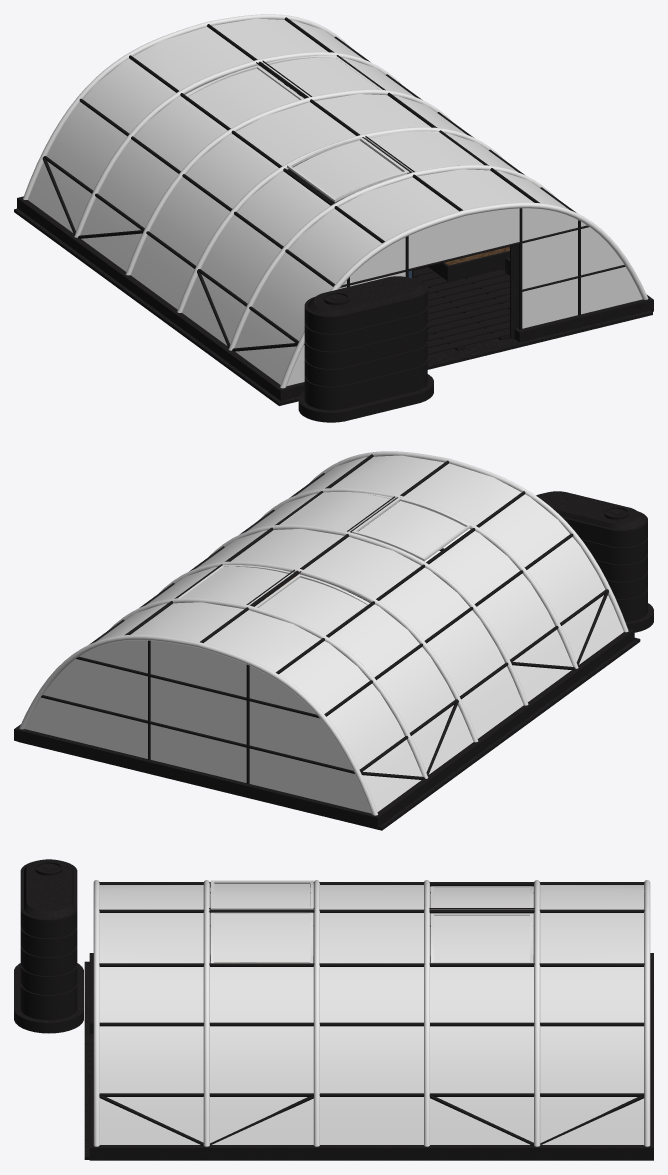
Rendered from serre_texturee.dae.
3 views of the same model, one above another, from view 1: azimuth 30°, elevation 25°; view 2: azimuth 150°, elevation 25°; view 3: azimuth 270°, elevation 25° (orthographic). The views are drawn at different scales.
Visible parts, largest first — view 1: GlassRoof, GlassFrontwall, GreenhouseSuperstructure, Tank, Foundation, WoodFloor, GreenhouseRoofStructure, Sol, GlassRoofWindow001, GlassRoofWindow, GlassRoofWindow003, GlassRoofWindow002 (+7 smaller); view 2: GlassRoof, GlassBackwall, GreenhouseSuperstructure, Foundation, GreenhouseRoofStructure, Tank, GlassRoofWindow001, GlassRoofWindow, GreenhouseBackStructure__0, GlassRoofWindow003, GlassRoofWindow002, Sol (+3 smaller); view 3: GlassRoof, GreenhouseSuperstructure, Foundation, GreenhouseRoofStructure, Tank, GlassRoofWindow003, GlassRoofWindow002, TankTop, GlassRoofWindow, GlassRoofWindow001, SidewallReinforcement__0, TankBase (+5 smaller).
Boxes of the visible parts, box(x1,y1,x2,y2) form: GlassRoof: box(27, 18, 568, 384); GlassFrontwall: box(286, 208, 642, 385); GreenhouseSuperstructure: box(23, 14, 648, 388); Tank: box(304, 278, 427, 410); Foundation: box(17, 165, 653, 400); WoodFloor: box(298, 160, 509, 354); GreenhouseRoofStructure: box(43, 17, 576, 343); Sol: box(14, 162, 652, 405); GlassRoofWindow001: box(188, 68, 299, 128); GlassRoofWindow: box(293, 140, 402, 198); GlassRoofWindow003: box(370, 132, 482, 170); GlassRoofWindow002: box(267, 57, 379, 96); GlassRoof: box(96, 455, 623, 812); GlassBackwall: box(25, 640, 371, 813); GreenhouseSuperstructure: box(19, 451, 628, 815); Foundation: box(14, 628, 634, 829); GreenhouseRoofStructure: box(89, 454, 608, 771); Tank: box(536, 493, 647, 621); GlassRoofWindow001: box(259, 577, 366, 635); GlassRoofWindow: box(358, 501, 465, 557); GreenhouseBackStructure__0: box(41, 640, 354, 783); GlassRoofWindow003: box(280, 492, 389, 530); GlassRoofWindow002: box(181, 566, 289, 604); Sol: box(18, 594, 640, 830); GlassRoof: box(99, 885, 644, 1144); GreenhouseSuperstructure: box(93, 880, 650, 1146); Foundation: box(89, 953, 653, 1160); GreenhouseRoofStructure: box(99, 882, 644, 1096); Tank: box(20, 861, 77, 1020); GlassRoofWindow003: box(213, 914, 310, 962); GlassRoofWindow002: box(434, 916, 529, 961); TankTop: box(24, 859, 73, 918); GlassRoofWindow: box(214, 884, 309, 906); GlassRoofWindow001: box(434, 888, 529, 909); SidewallReinforcement__0: box(99, 926, 644, 1145); TankBase: box(14, 963, 83, 1033).
Bounding box in the file's own units: 284 × 390 × 104.
Materials: 5 (3 with a texture image).
